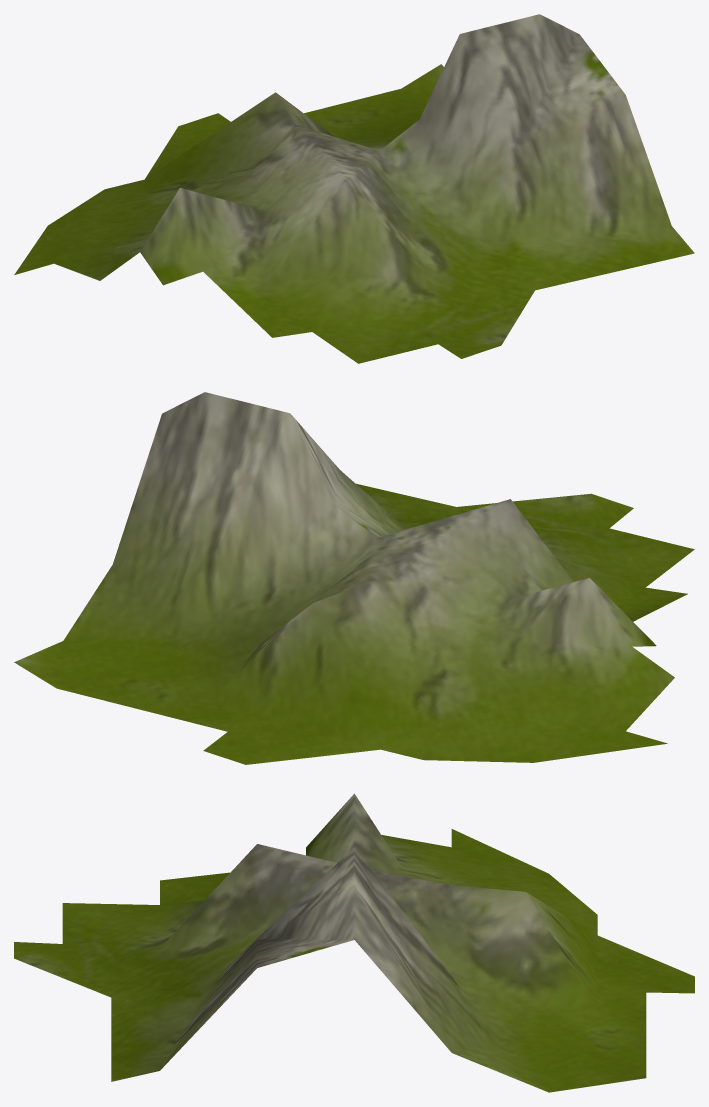
The model's file is Terrain_15.fbx.
3 views of the same model, one above another, from view 1: azimuth 30°, elevation 25°; view 2: azimuth 150°, elevation 25°; view 3: azimuth 270°, elevation 25° (orthographic). The views are drawn at different scales.
Parts seen in each view (by area): view 1: Terrain_15; view 2: Terrain_15; view 3: Terrain_15.
Part boxes in pixels (x1=…): Terrain_15: x1=14, y1=14, x2=694, y2=363; Terrain_15: x1=14, y1=392, x2=694, y2=764; Terrain_15: x1=14, y1=793, x2=694, y2=1092.
Bounding box in the file's own units: 10.51 × 3.51 × 11.31.
